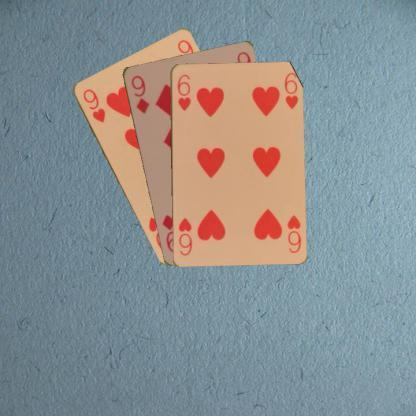6h: (284, 212, 302, 254), (174, 72, 192, 112)
9d: (128, 72, 150, 115)
9h: (80, 86, 107, 124)
